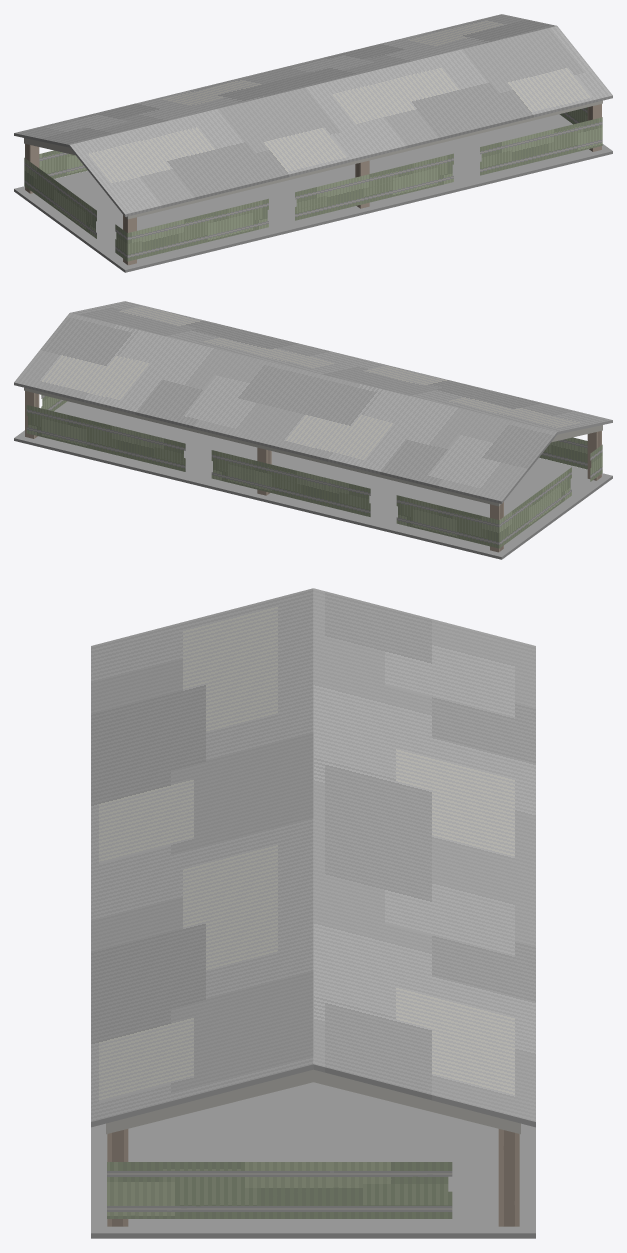
File: 049d_Market.glb
3 views of the same model, one above another, from view 1: azimuth 30°, elevation 25°; view 2: azimuth 150°, elevation 25°; view 3: azimuth 270°, elevation 25° (orthographic). The views are drawn at different scales.
Parts seen in each view (by area): view 1: part_0; view 2: part_0; view 3: part_0.
Part boxes in pixels (x1,y1,x2,y2): part_0: (14, 14, 612, 272); part_0: (14, 301, 612, 559); part_0: (91, 588, 535, 1238).
Size of the model in its own units: 38 by 6.49 by 15.
Materials: 1 (1 with a texture image).
